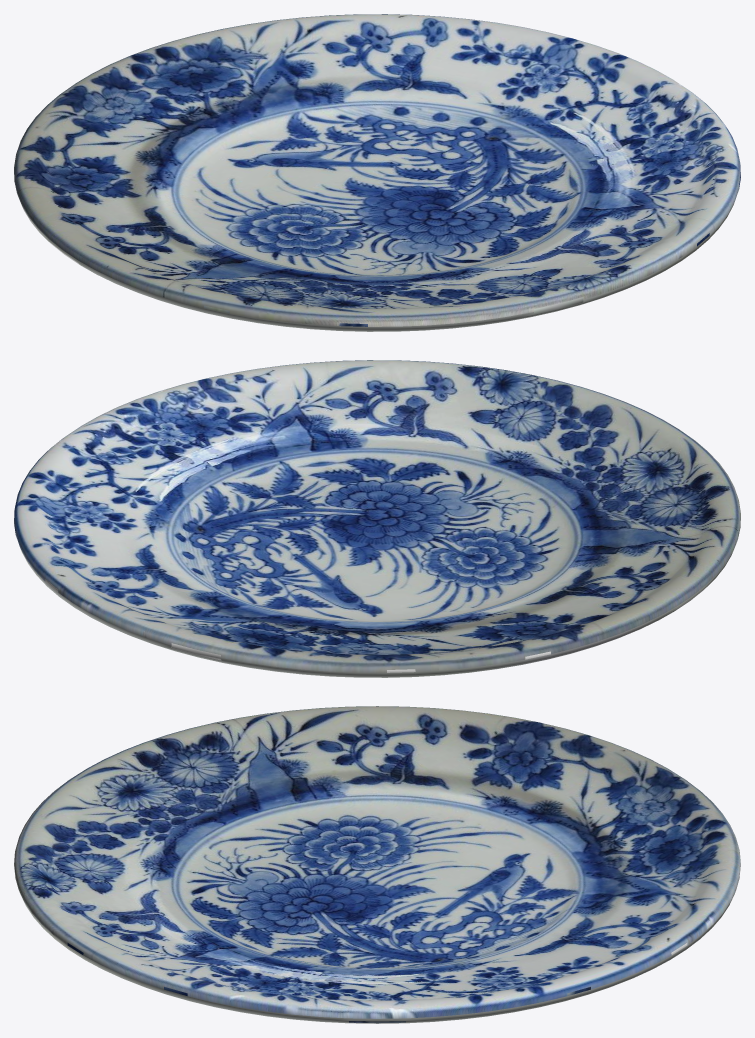
File: plate.glb
The picture shows the model from 3 angles, top to bottom: view 1: azimuth 30°, elevation 25°; view 2: azimuth 150°, elevation 25°; view 3: azimuth 270°, elevation 25°; orthographic projection.
Parts seen in each view (by area): view 1: pCylinder1; view 2: pCylinder1; view 3: pCylinder1.
Boxes of the visible parts, x1,y1,x2,y2 form: pCylinder1: (14, 14, 740, 331); pCylinder1: (14, 360, 740, 677); pCylinder1: (14, 706, 740, 1023).
Bounding box in the file's own units: 0.4636 × 0.0367 × 0.4636.
Materials: 1 (1 with a texture image).
